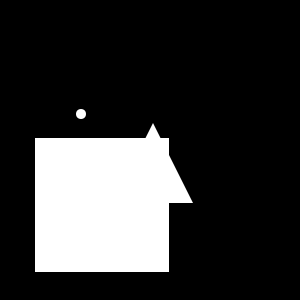circle: (35, 138, 169, 272)
rectangle: (76, 109, 86, 119)
triangle: (113, 123, 193, 203)
